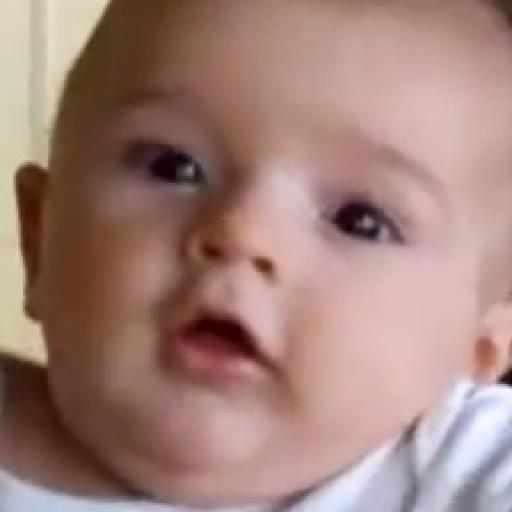Autism: (66, 11, 510, 512)
